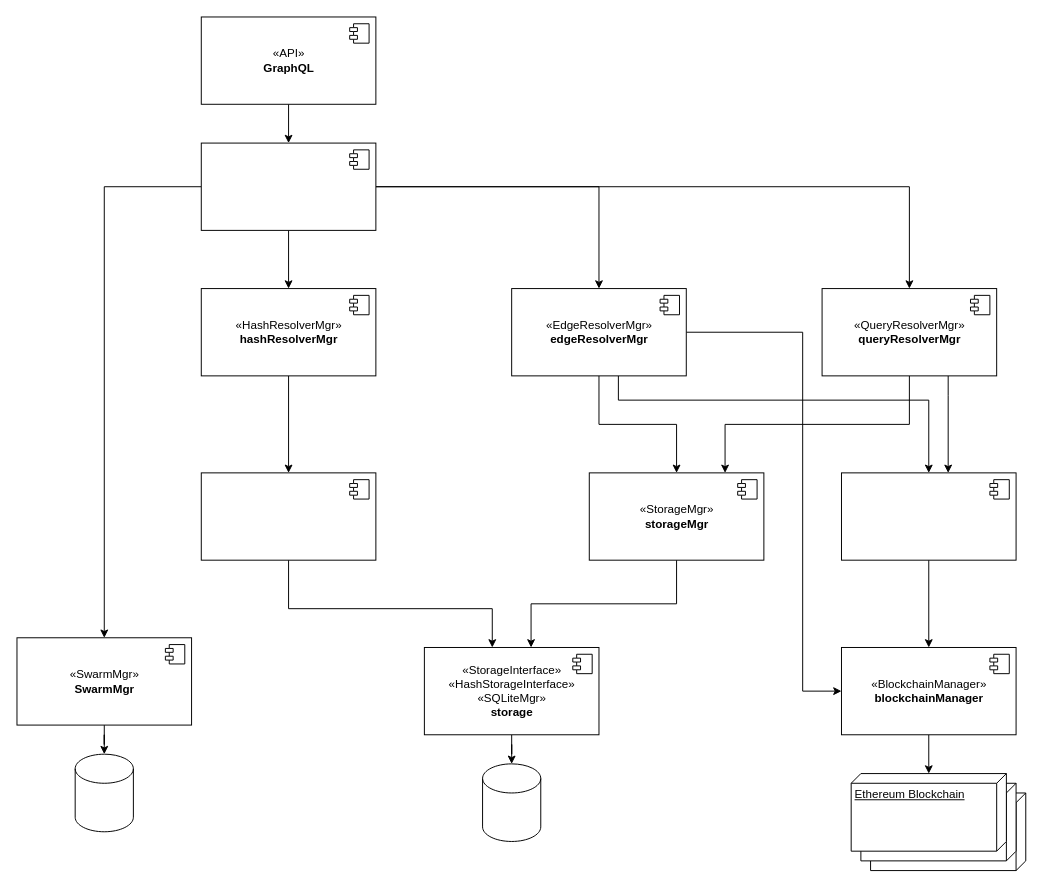
Image size: 1043x888. Some labels were removed from this diagram. Here are the shapes that lost their labels. From the top down, the centre of each, then its label:
At [288,186]: "«SchemaMgr» schemaMgr".
At [288,516]: "«hashStorageMgr» HashStorageMgr".
At [928,516]: "«AuthMgr» authMgr".
At [103,792]: "SWARM".
At [511,802]: "SQLITE".
